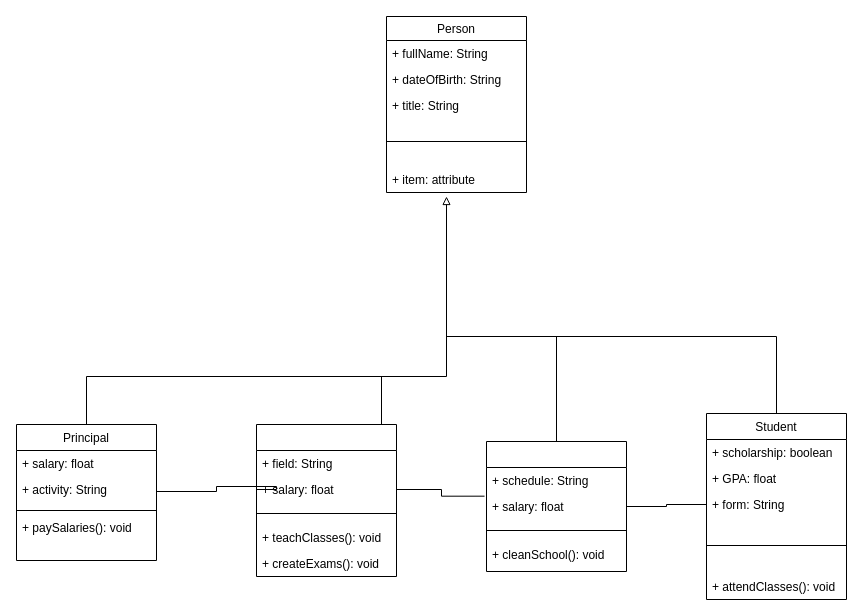
The diagram is 863 pixels wide and 616 high, and some of its shapes have lost their labels. The shapes that lost their labels are listed below. From the top down, each one's box as (x1, y1, x2, y2) in pixels, then its label:
(256, 424, 396, 576): Teacher
(486, 440, 626, 572): Janitors
